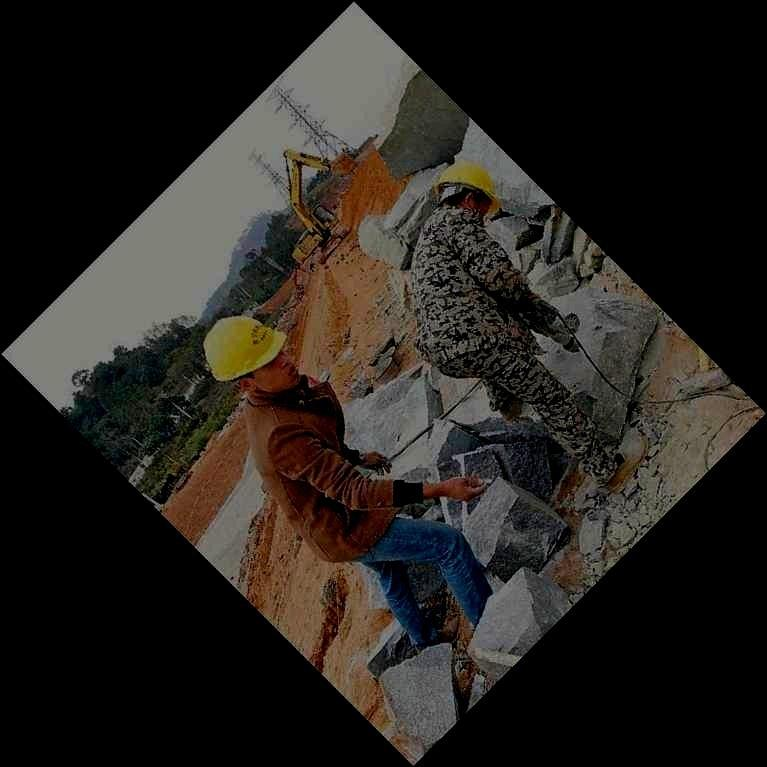helmet: (203, 316, 299, 391), (433, 159, 500, 225)
